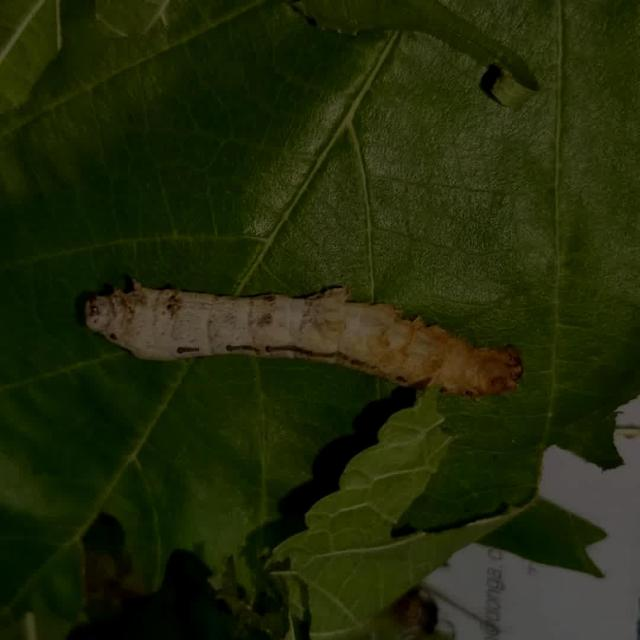Grasserie: (77, 258, 527, 412)
